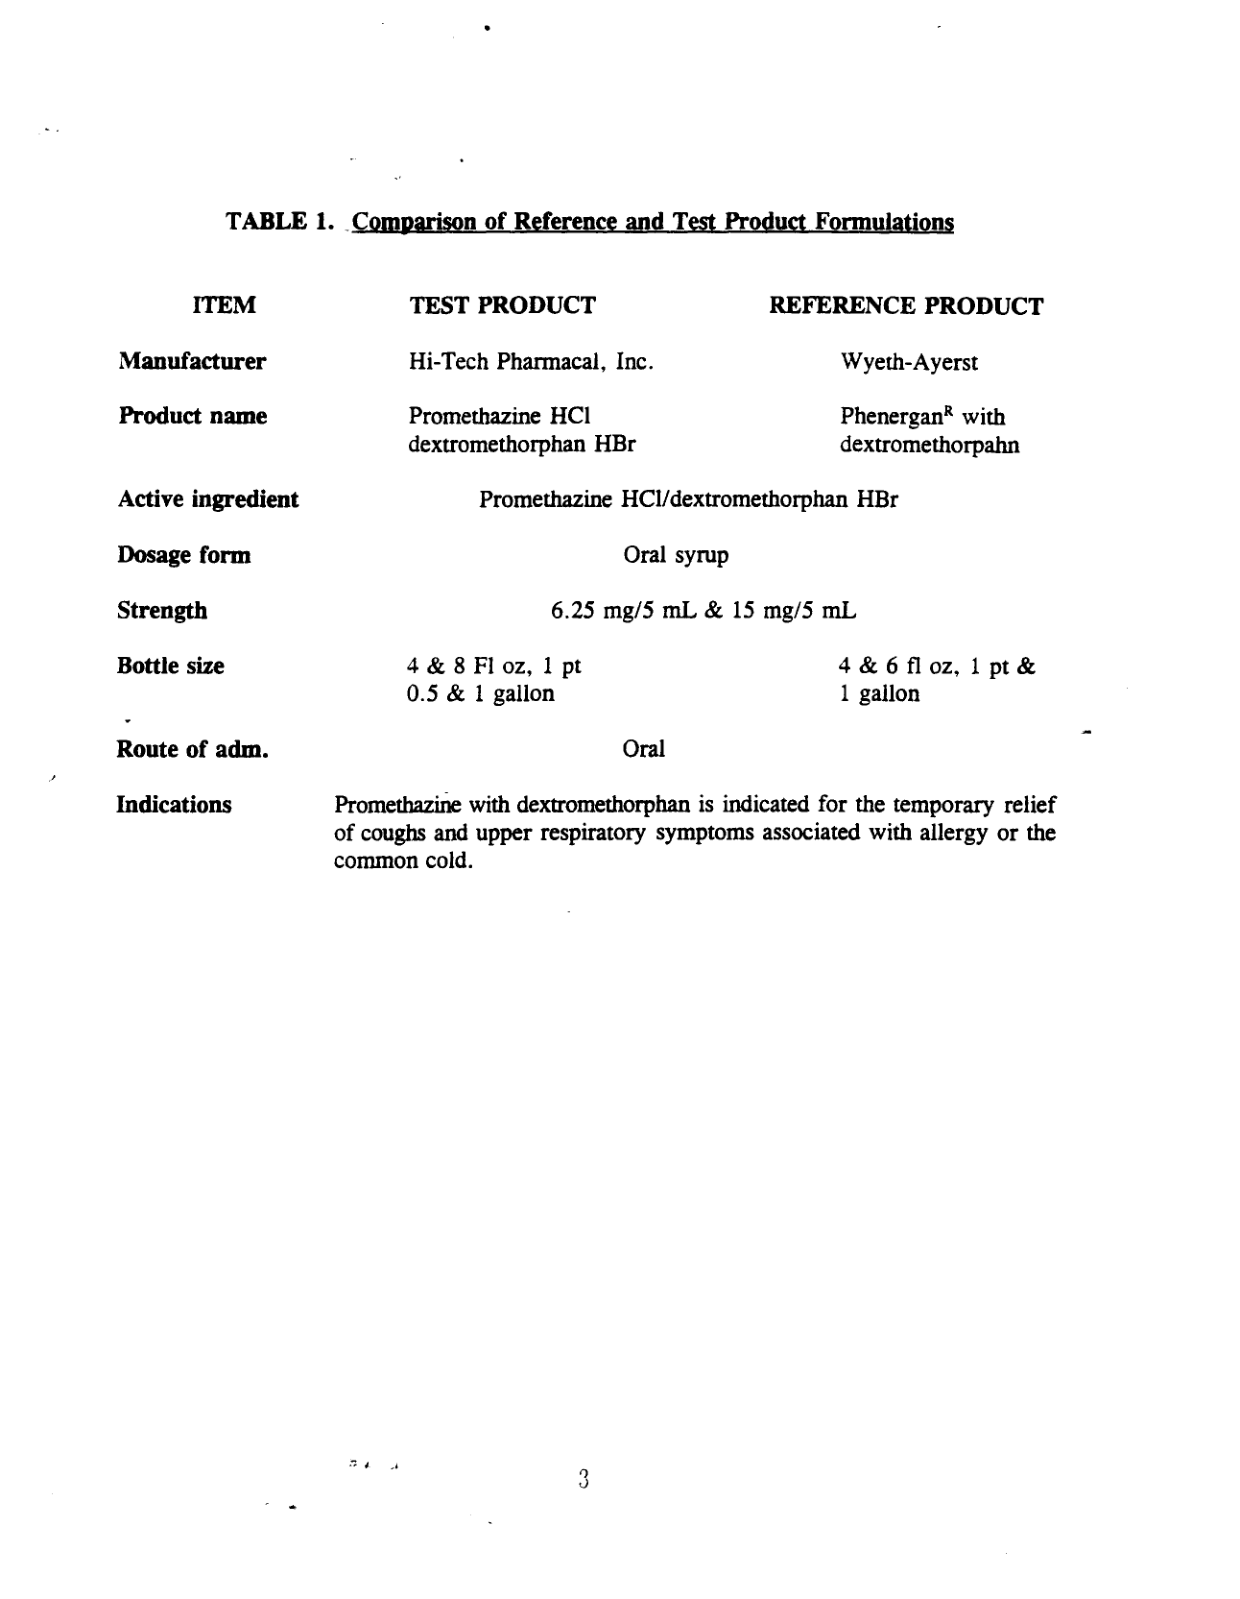nolines: (116, 289, 1066, 873)
